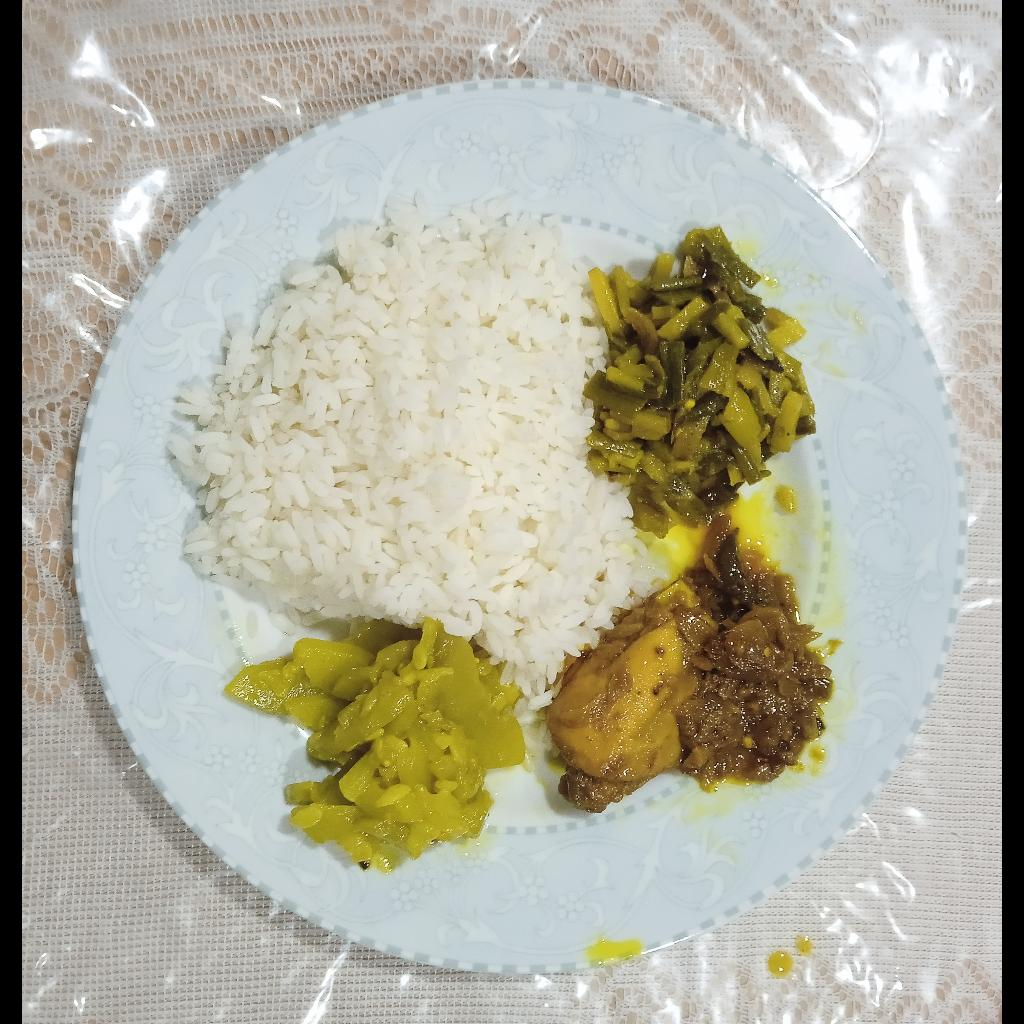chicken: (550, 564, 735, 816)
lau: (223, 631, 527, 865)
rice: (166, 205, 652, 701)
vegetable: (586, 220, 819, 535)
